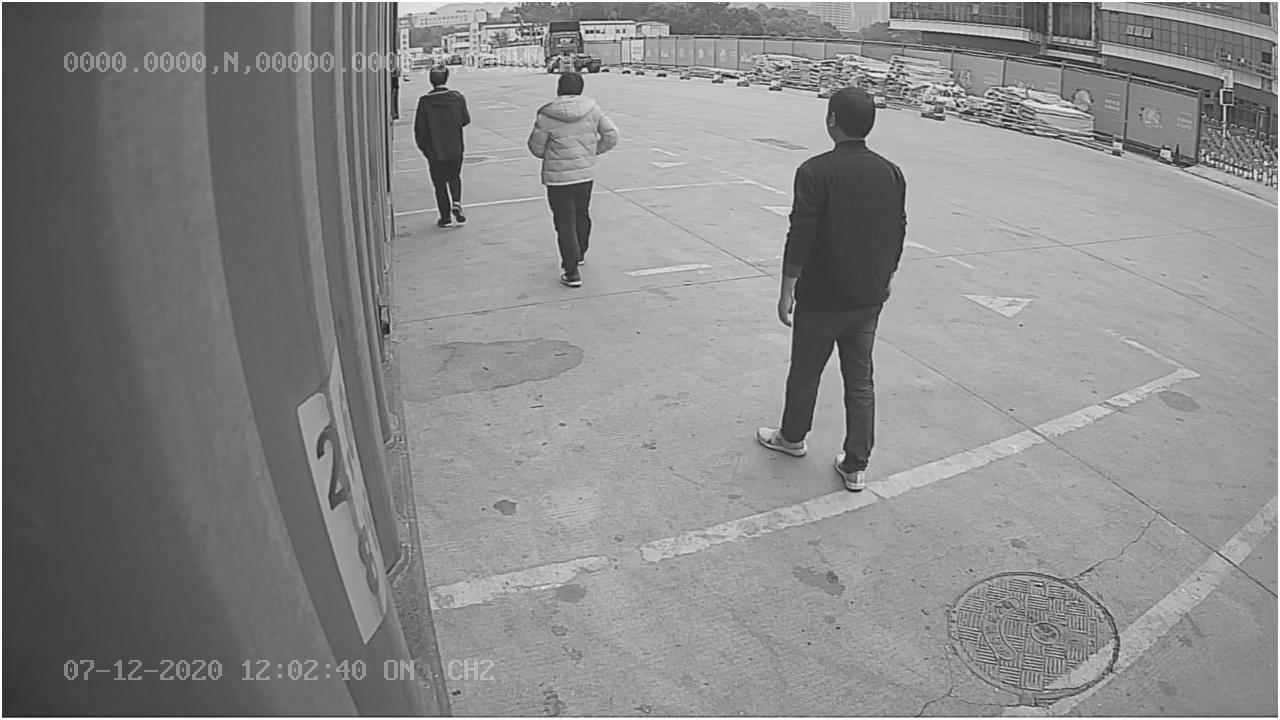person: (753, 80, 914, 491), (529, 68, 619, 300)
